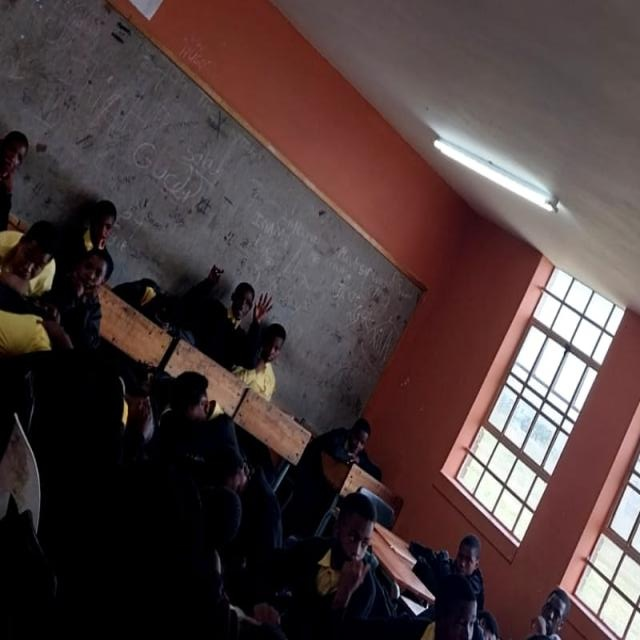fluorescent tube: (410, 104, 586, 251)
